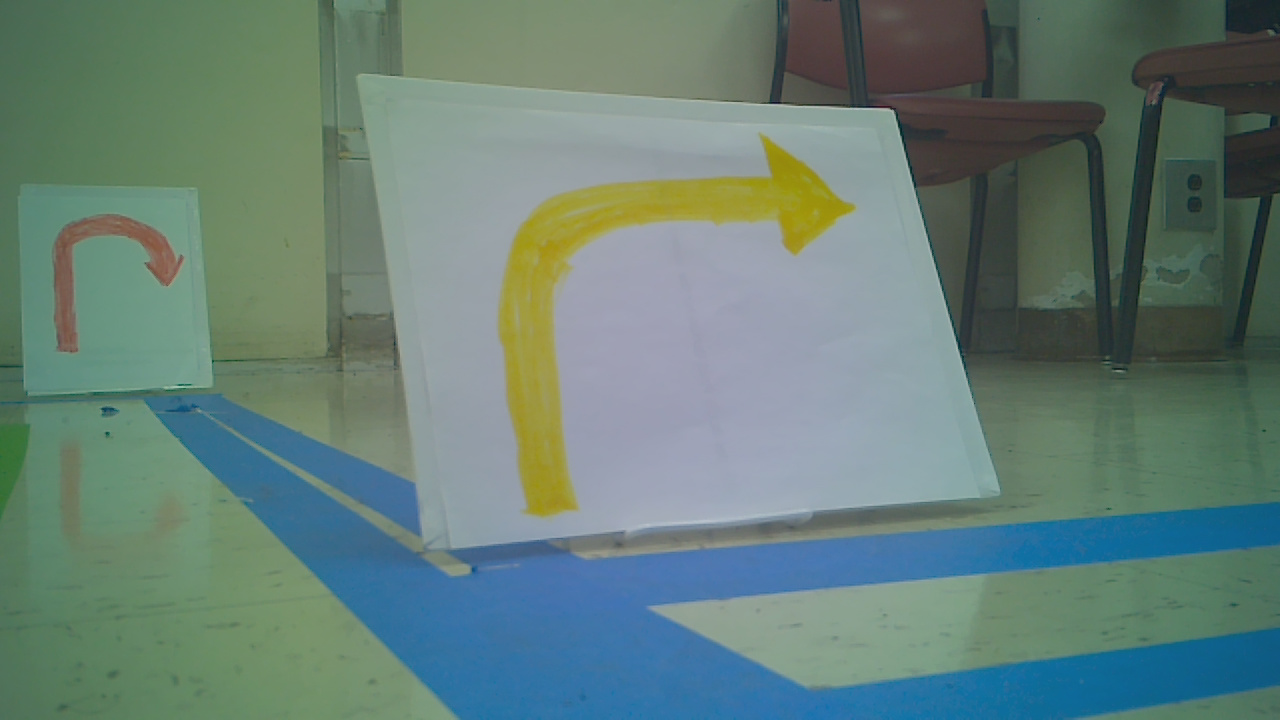right: (481, 130, 860, 513)
uturn: (50, 211, 191, 355)
